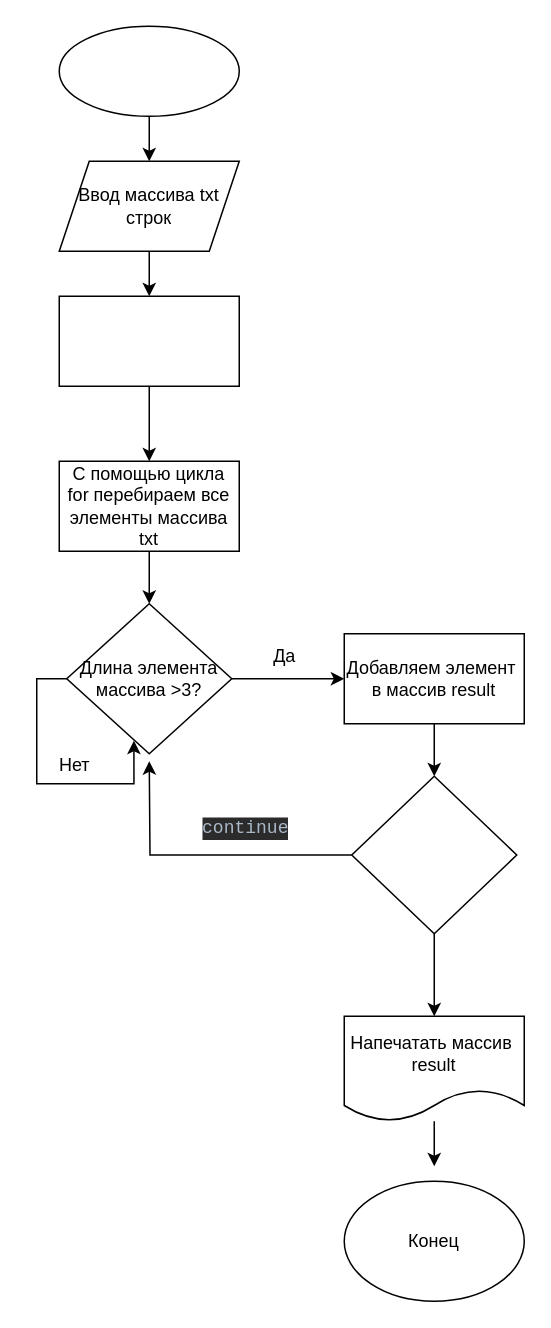
Image size: 551x1328. Some labels were removed from this diagram. The shapes that lost their labels are listed below. From the top down, each one's centre as x and y in pixels, then its label:
the point at 148,70: Старт
the point at 148,340: Создаем новый пустой массив result
the point at 433,854: Мы проверили все элементы txt?
